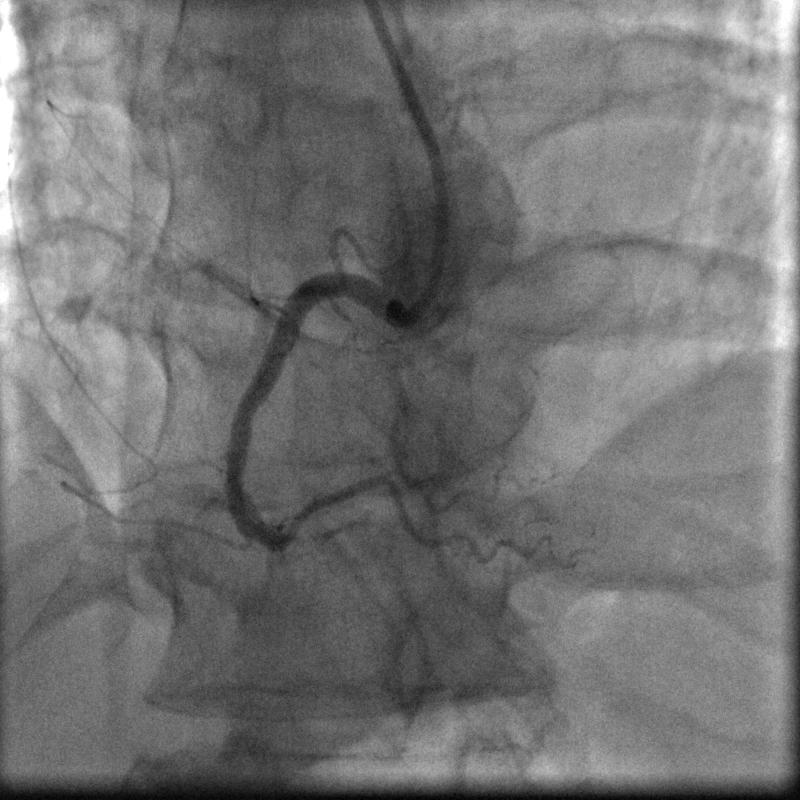Stenosis: (272, 524, 329, 554)
